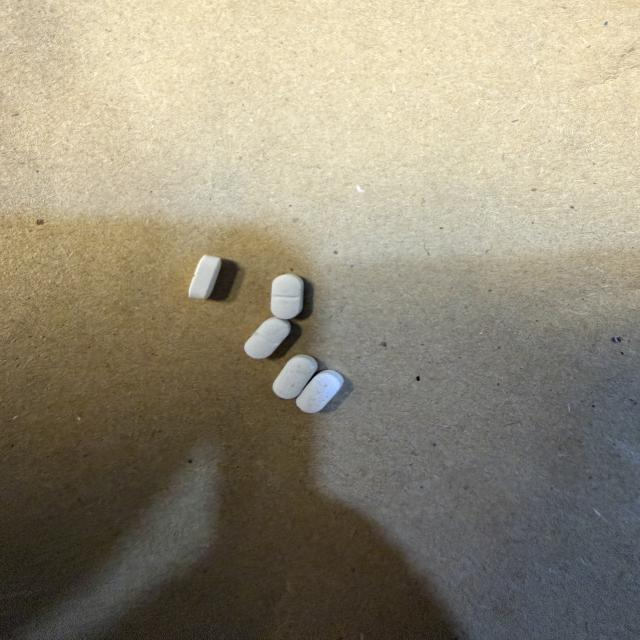pill: (296, 370, 343, 413), (273, 355, 317, 399), (245, 318, 290, 359), (271, 274, 304, 319), (189, 255, 221, 299)
